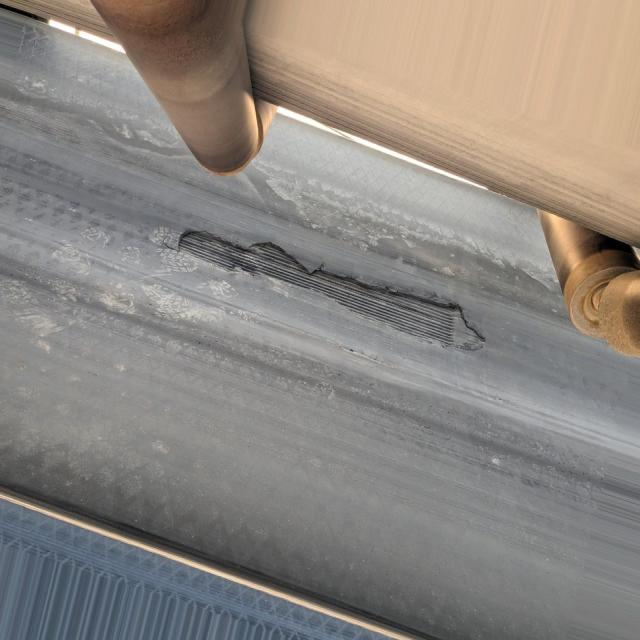Roller: (93, 0, 283, 180), (537, 204, 640, 363)
Tear: (175, 226, 494, 363)
